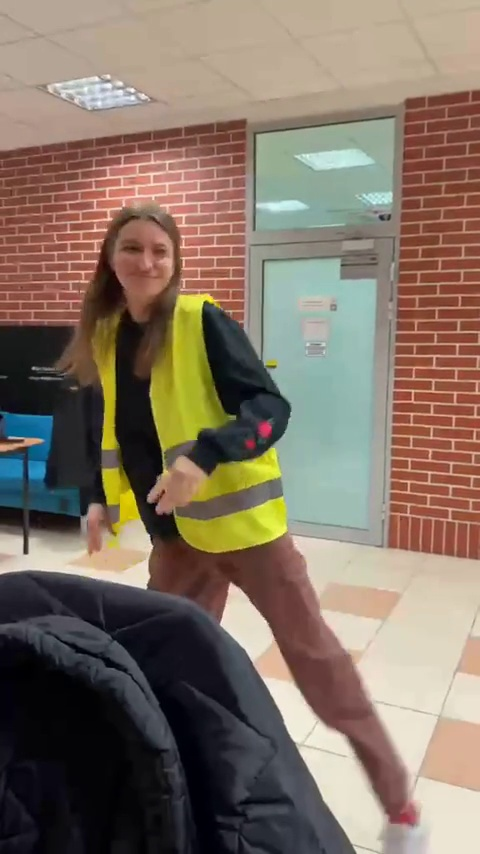vest: (53, 199, 368, 679)
